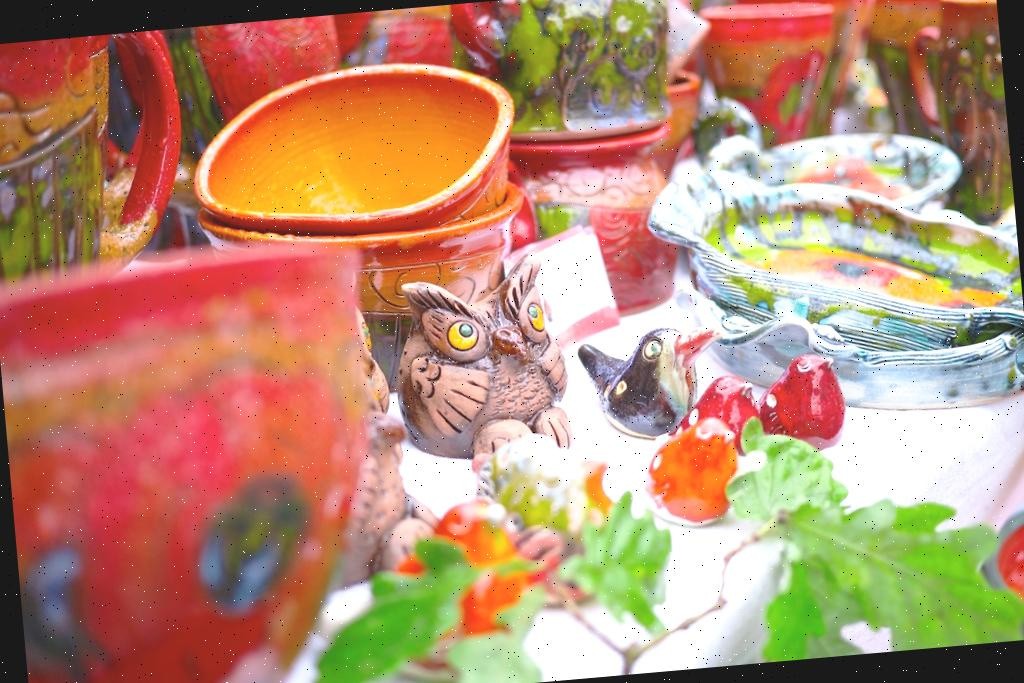Owl: (387, 249, 587, 479)
